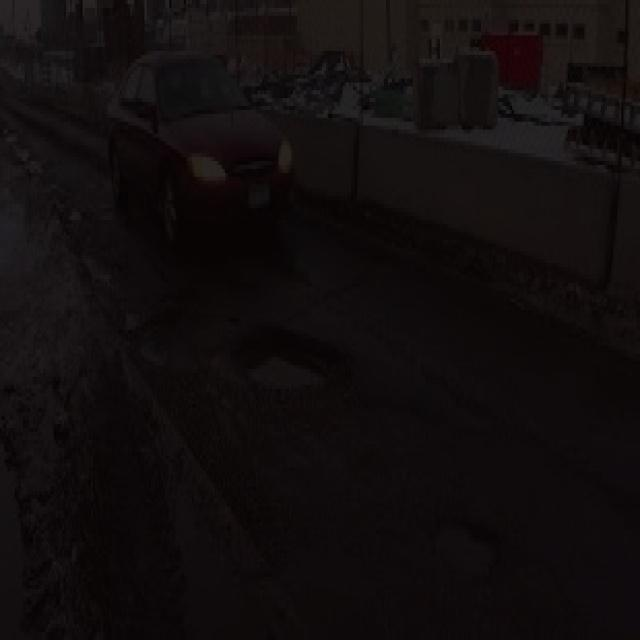Pothole: (52, 383, 200, 640), (222, 313, 367, 413), (68, 250, 161, 352), (425, 509, 511, 585)
